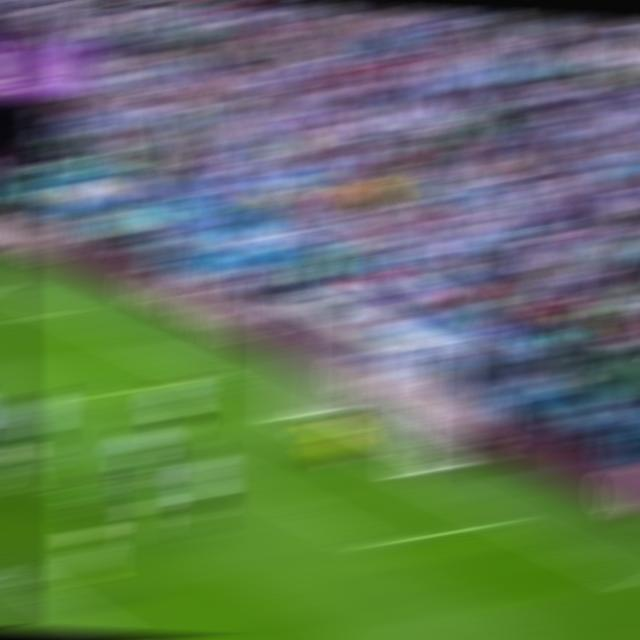bigarea_top_outter: (37, 295, 85, 332)
bottom_arc_area_intersection: (0, 558, 53, 606)
smallarea_bottom_inner: (346, 523, 401, 564)
smallarea_bottom_outter: (482, 504, 530, 537)
smallarea_top_inner: (63, 382, 109, 416)
smallarea_top_outter: (180, 363, 232, 394)
